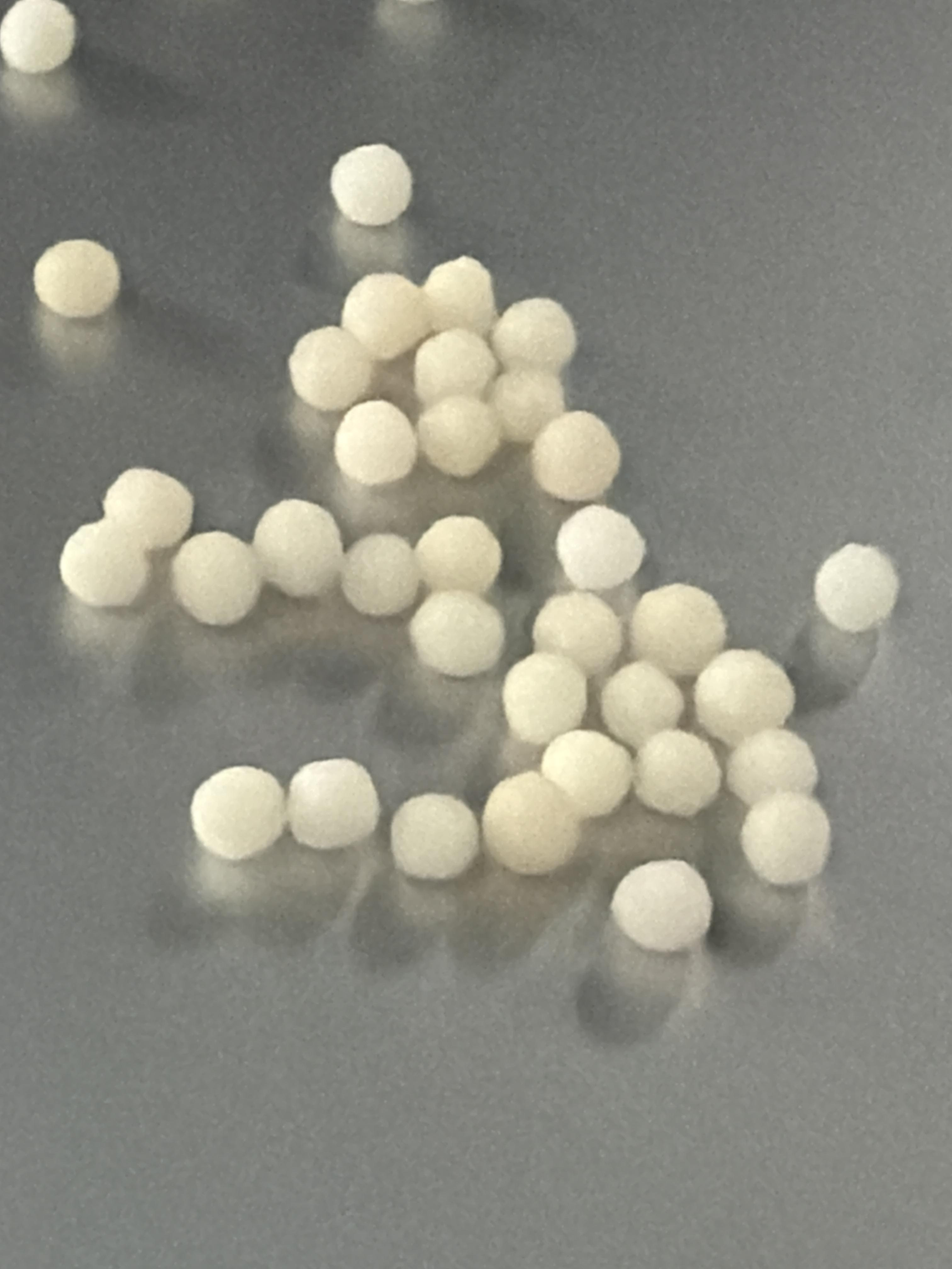pill: (482, 772, 579, 875), (694, 649, 795, 746), (611, 860, 712, 953), (631, 583, 727, 677), (252, 499, 343, 598), (191, 766, 285, 861), (172, 531, 262, 626), (741, 792, 830, 885), (288, 759, 379, 849), (410, 591, 504, 678), (531, 411, 620, 502), (541, 730, 632, 818), (341, 273, 431, 361), (60, 519, 150, 607), (390, 794, 480, 881), (634, 729, 721, 817), (503, 653, 587, 744), (556, 505, 645, 590), (814, 544, 899, 633), (533, 592, 622, 676), (103, 468, 194, 550), (288, 327, 373, 412), (601, 662, 684, 748), (335, 400, 417, 486), (33, 239, 121, 319), (726, 728, 818, 804), (418, 396, 501, 478), (330, 144, 412, 227), (416, 516, 502, 594), (342, 534, 420, 617), (414, 328, 497, 405), (491, 298, 576, 372), (422, 257, 496, 336), (490, 367, 565, 443), (0, 0, 76, 74)
